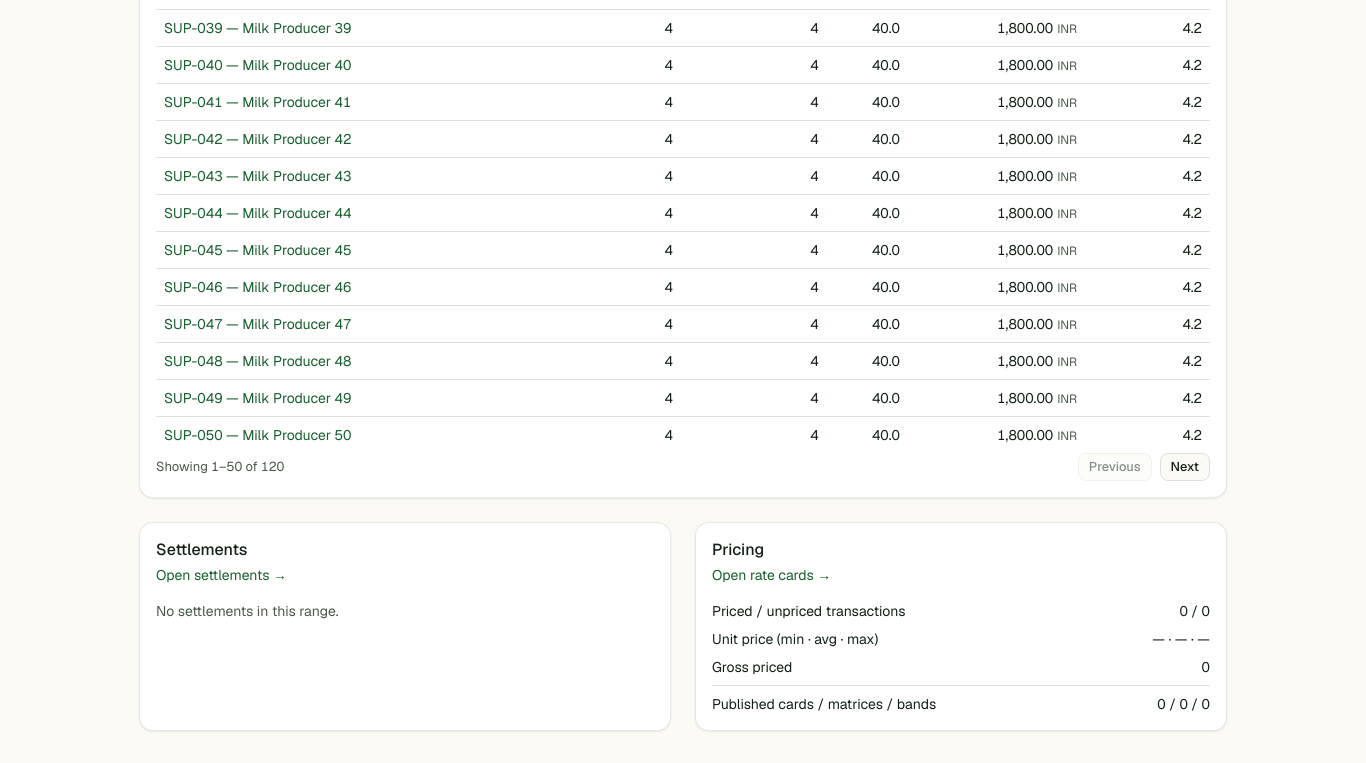
reports page pagination › shows the server's total and reaches rows past the old 50-row cut
The image size is (1366, 763).
(page scrolled)
Expected: the text "Showing 1–50 of 120" is shown, [156,458,284,476]
Page two: supplier #51 — invisible before this milestone — exists.
Click the button "Next" at (1185, 467), box [1160,453,1210,481]
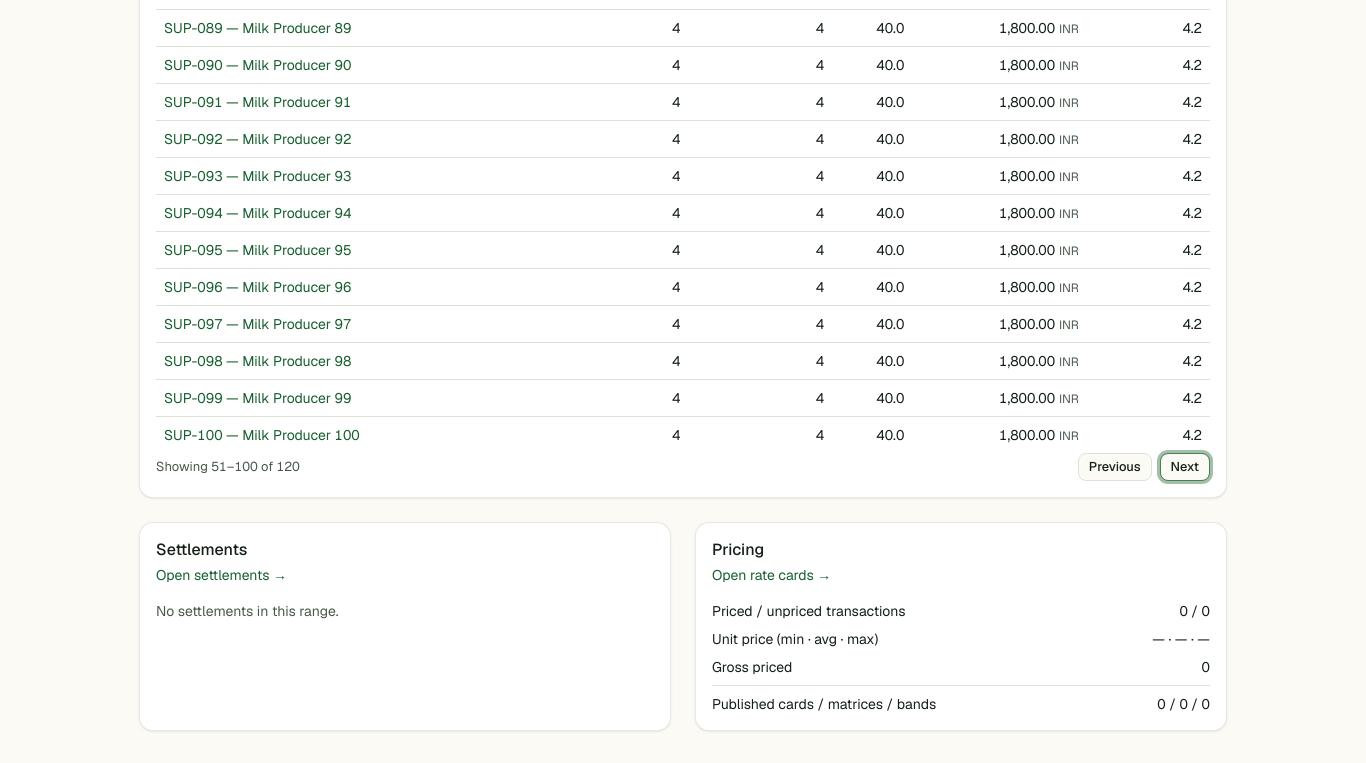
Result: the text "Showing 51–100 of 120" is shown at [156,458,300,476]
